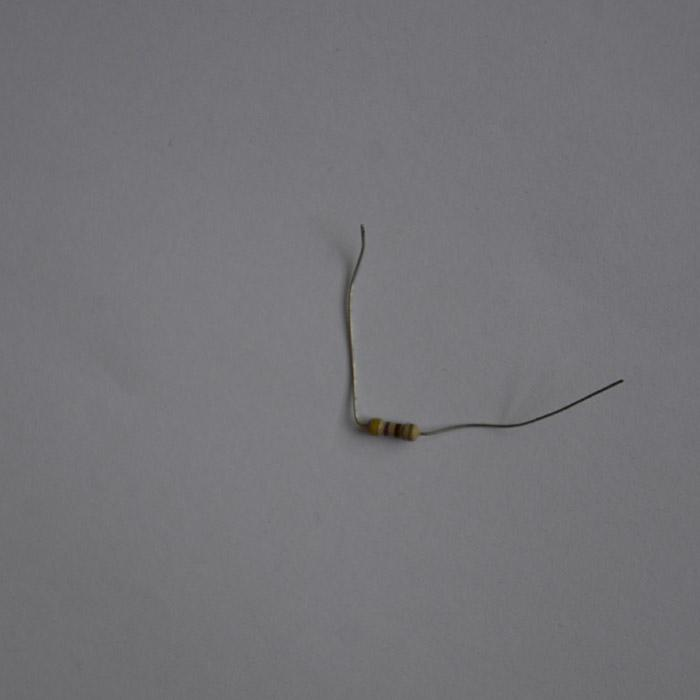resistor: (366, 417, 419, 440)
